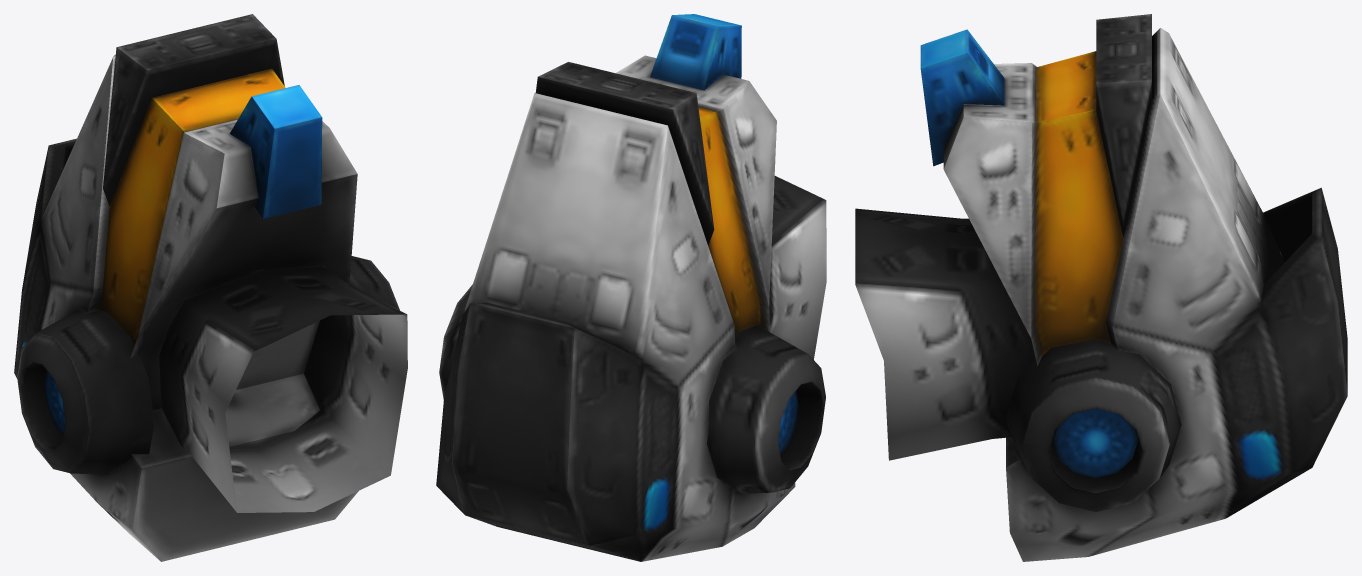
The model's file is PBR_HP_Mesh_Head1.fbx.
The picture shows the model from 3 angles, left to right: view 1: azimuth 30°, elevation 25°; view 2: azimuth 150°, elevation 25°; view 3: azimuth 270°, elevation 25°; orthographic projection. The views are drawn at different scales.
Visible parts, largest first — view 1: head1; view 2: head1; view 3: head1.
Boxes of the visible parts, box(x1,y1,x2,y2) form: head1: box(14, 14, 407, 561); head1: box(436, 14, 826, 561); head1: box(855, 14, 1347, 561).
Bounding box in the file's own units: 32.91 × 43.54 × 40.66.
